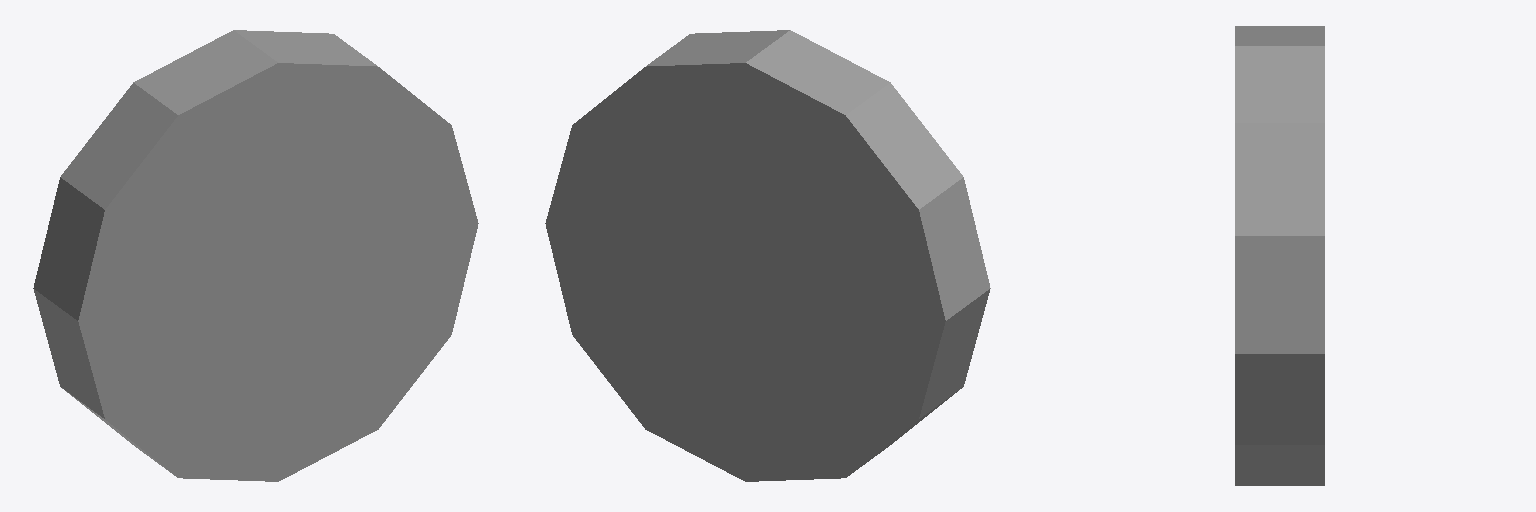
The model's file is coin.obj.
3 views of the same model, side by side, from view 1: azimuth 30°, elevation 25°; view 2: azimuth 150°, elevation 25°; view 3: azimuth 270°, elevation 25° (orthographic).
Parts seen in each view (by area): view 1: coin_ID7.002; view 2: coin_ID7.002; view 3: coin_ID7.002.
Boxes of the visible parts, <box> form: coin_ID7.002: <box>33,30,478,481</box>; coin_ID7.002: <box>545,30,990,481</box>; coin_ID7.002: <box>1235,26,1324,485</box>.
Bounding box in the file's own units: 17.1 × 17.1 × 3.33.